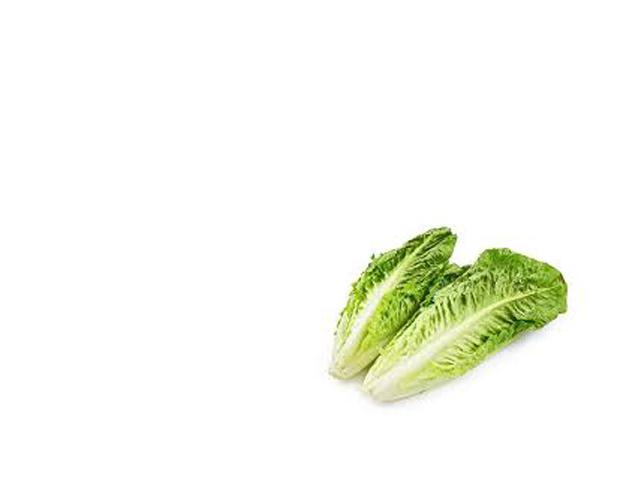lettuce: (376, 240, 568, 413)
